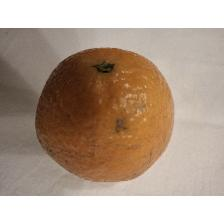Mandarine: (32, 43, 180, 184)
